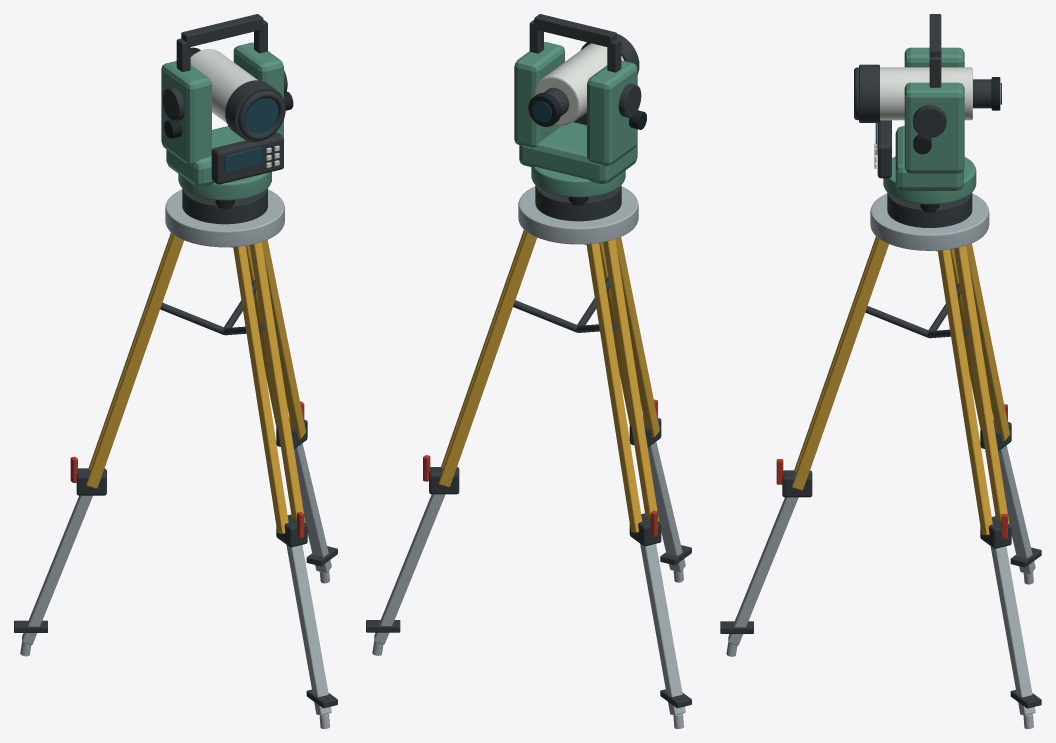
Rendered from city-tripod-survey-instrument.glb.
3 renders of one model, left to right at view 1: azimuth 30°, elevation 25°; view 2: azimuth 150°, elevation 25°; view 3: azimuth 270°, elevation 25°, orthographic.
Parts seen in each view (by area): view 1: Assembly | Warm safety yellow polymer, Assembly | Dark powder coated structure, Assembly | Satin metal fittings, Assembly | Muted instrument green, Assembly | Ivory casing and scale marks, Assembly | Opaque blue optical and display face, Assembly | Matte dark grip rubber; view 2: Assembly | Warm safety yellow polymer, Assembly | Muted instrument green, Assembly | Satin metal fittings, Assembly | Dark powder coated structure, Assembly | Ivory casing and scale marks, Assembly | Matte dark grip rubber; view 3: Assembly | Warm safety yellow polymer, Assembly | Satin metal fittings, Assembly | Dark powder coated structure, Assembly | Muted instrument green, Assembly | Ivory casing and scale marks, Assembly | Matte dark grip rubber.
Part boxes in pixels (x1,y1,x2,y2): Assembly | Warm safety yellow polymer: [86, 232, 305, 533]; Assembly | Dark powder coated structure: [14, 14, 337, 708]; Assembly | Satin metal fittings: [20, 189, 331, 728]; Assembly | Muted instrument green: [161, 42, 283, 200]; Assembly | Ivory casing and scale marks: [190, 49, 279, 167]; Assembly | Opaque blue optical and display face: [224, 98, 278, 172]; Assembly | Matte dark grip rubber: [164, 47, 293, 208]; Assembly | Warm safety yellow polymer: [439, 230, 659, 532]; Assembly | Muted instrument green: [514, 42, 637, 197]; Assembly | Satin metal fittings: [372, 186, 685, 728]; Assembly | Dark powder coated structure: [366, 14, 691, 708]; Assembly | Ivory casing and scale marks: [534, 43, 624, 125]; Assembly | Matte dark grip rubber: [528, 92, 646, 205]; Assembly | Warm safety yellow polymer: [792, 236, 1009, 535]; Assembly | Satin metal fittings: [726, 193, 1035, 728]; Assembly | Dark powder coated structure: [720, 14, 1041, 708]; Assembly | Muted instrument green: [883, 47, 976, 204]; Assembly | Ivory casing and scale marks: [874, 67, 972, 168]; Assembly | Matte dark grip rubber: [913, 77, 1000, 212].
Size of the model in its own units: 0.924 by 1.71 by 0.8008.
